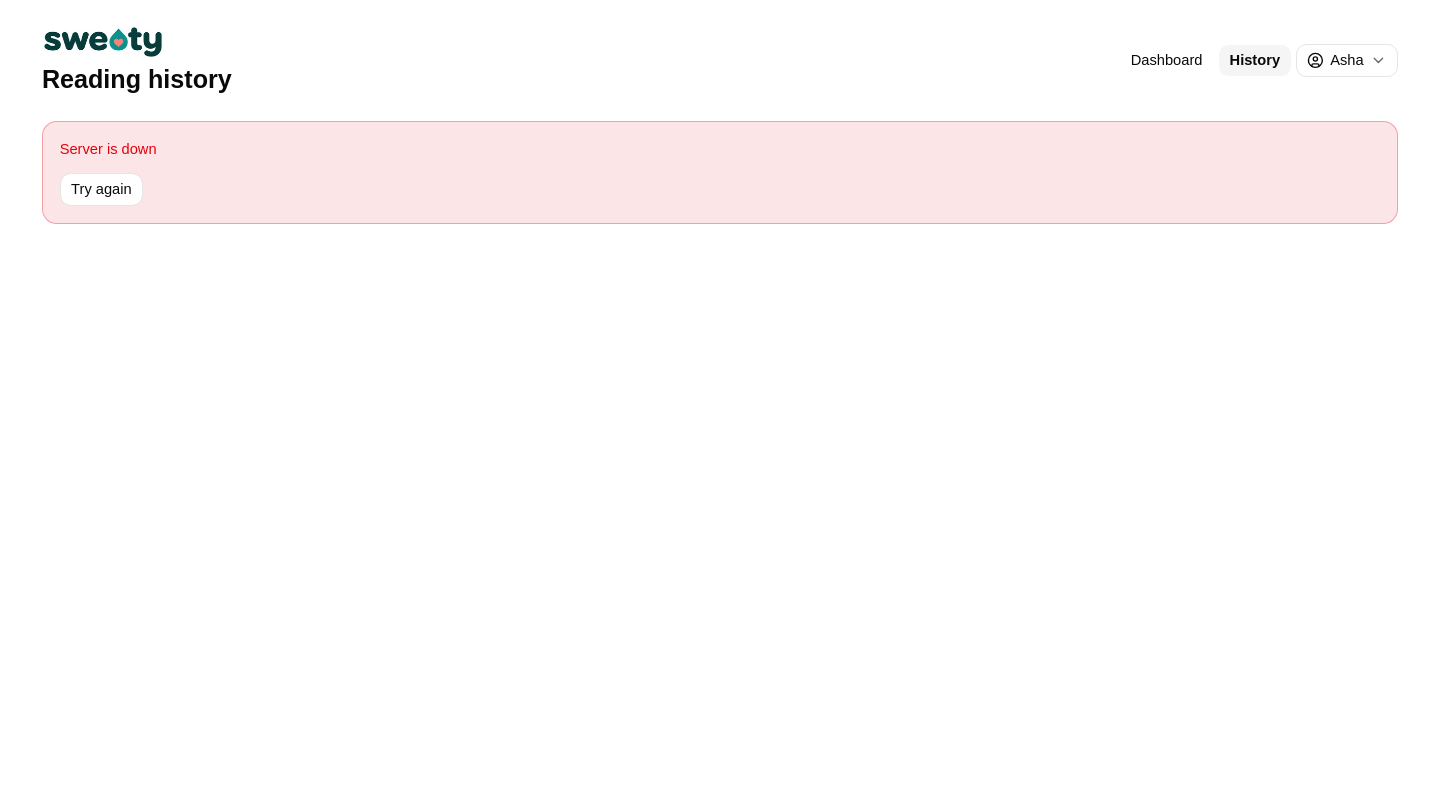
Test: HistoryPage pagination › shows an error with a retry button when loading fails
Check: the text "Server is down" is shown, box [60,139,156,160]
Step 1. Click the button "Try again" → x=101, y=189, box [60,173,143,206]
(page scrolled)
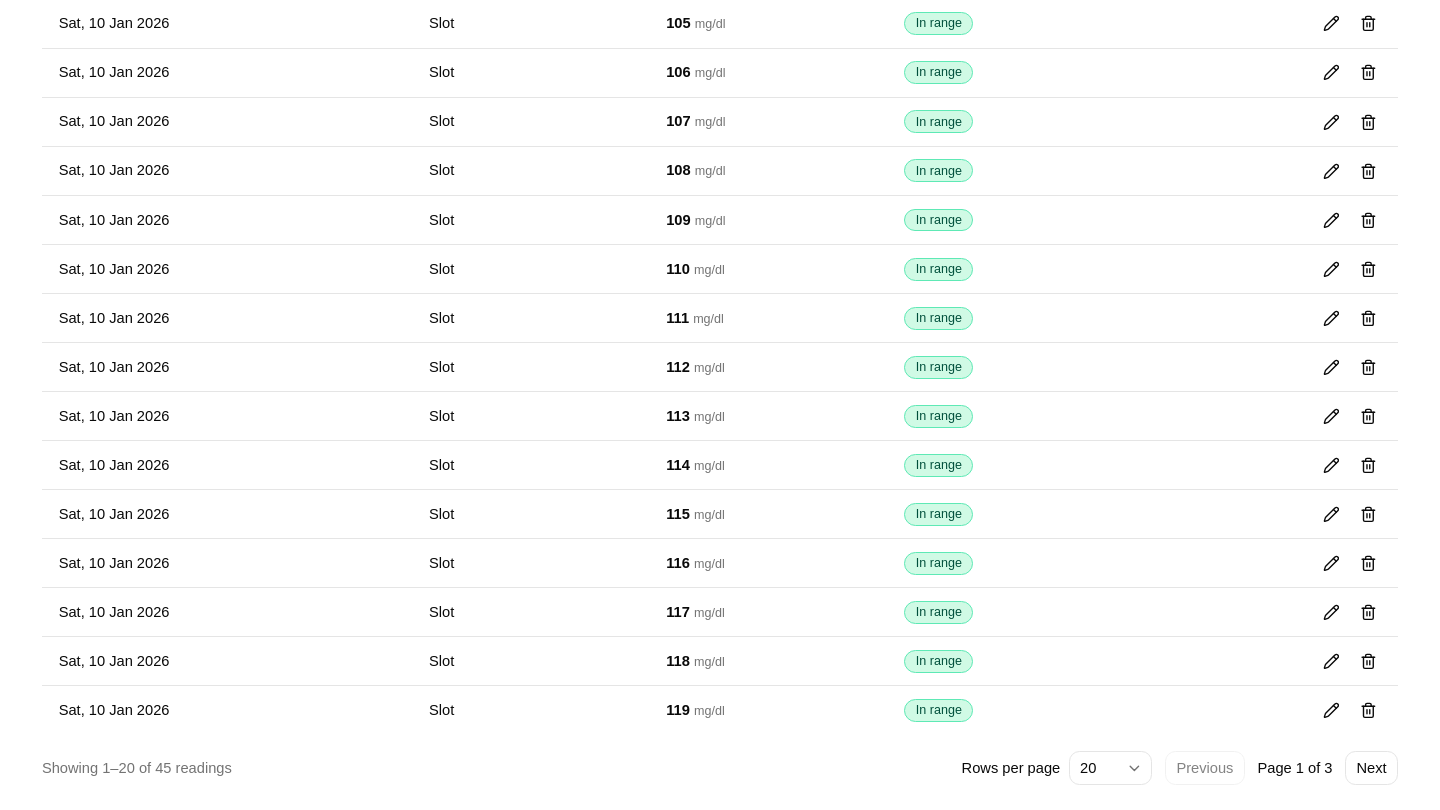
Check: the text "Page 1 of 3" is shown, box [1253,758,1337,778]
